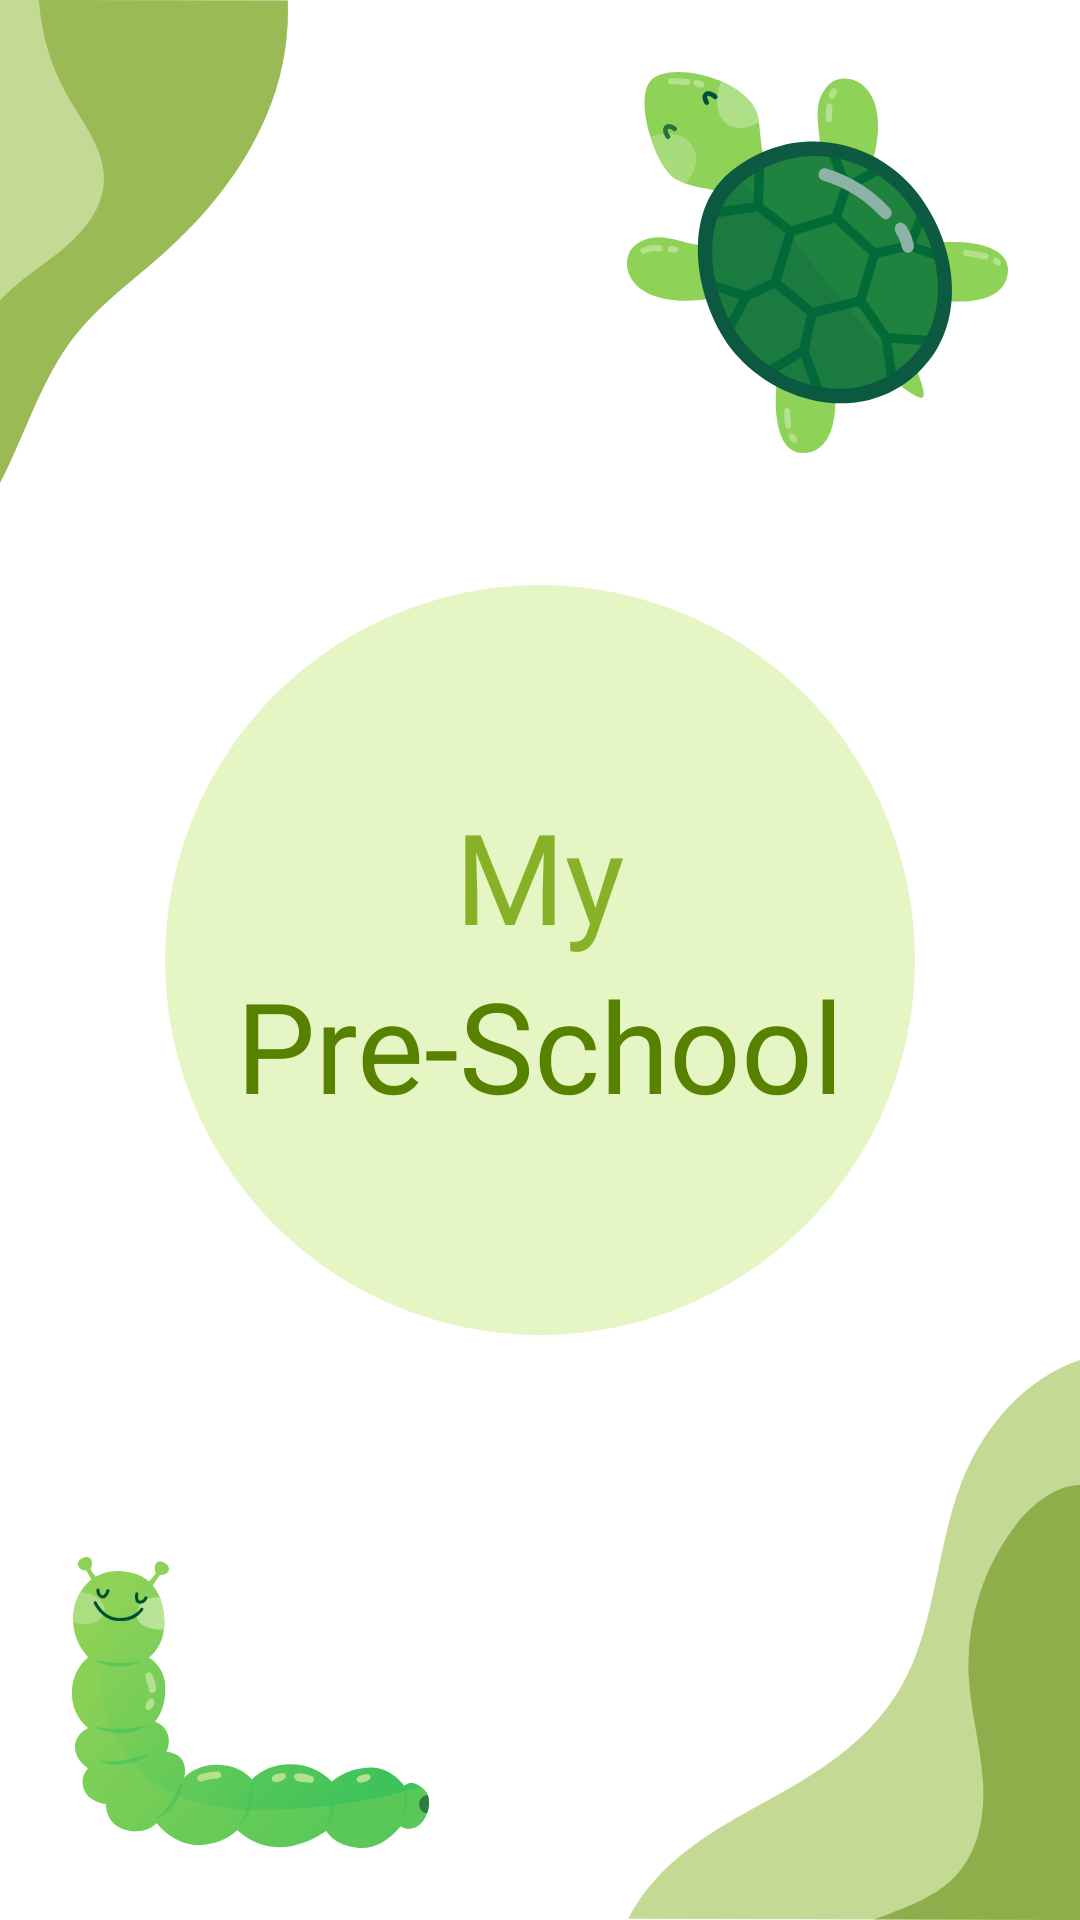

Locate icon controls on the screen. Image size 1080w x 1920h, boxes as (x1, y1, x2, y2).
earthworm: (72, 1557, 429, 1848)
